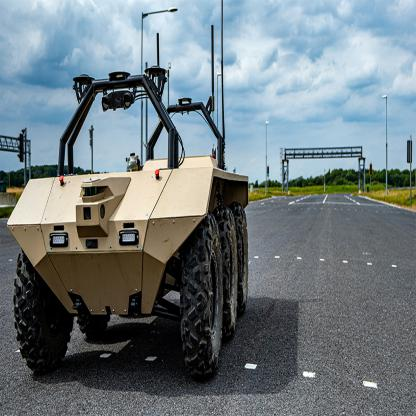UGV: (7, 68, 249, 382)
